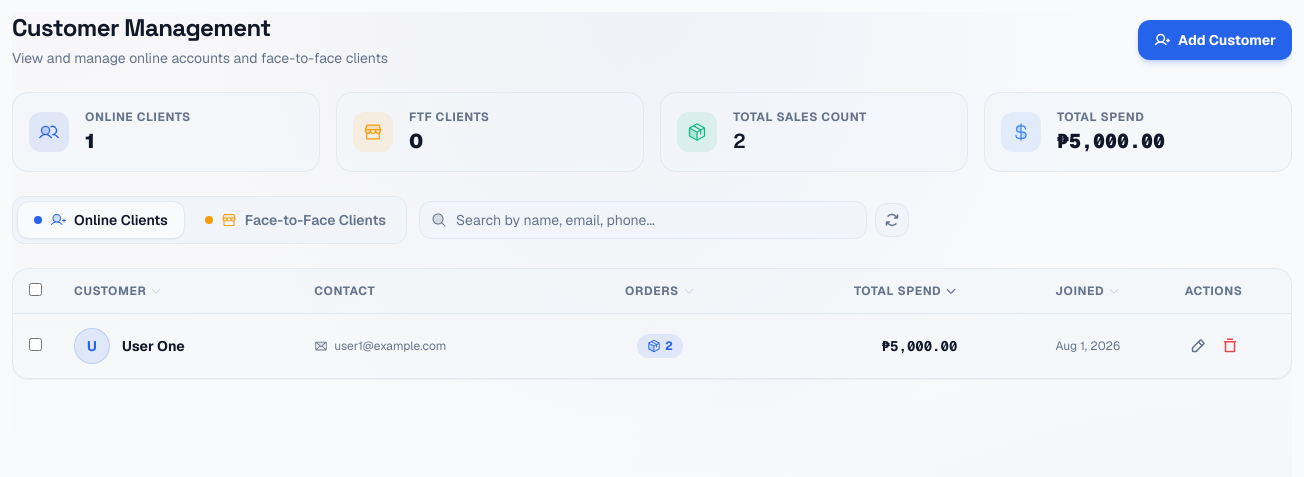
it: CustomerManagement drawer stats › renders selection bar when customer checkboxes are selected
The width and height of the screenshot is (1304, 477).
Expected: the text "User One" is shown, [122, 336, 185, 356]
Click the checkbox named "Select User One".
click(36, 344)  # box [29, 338, 42, 351]
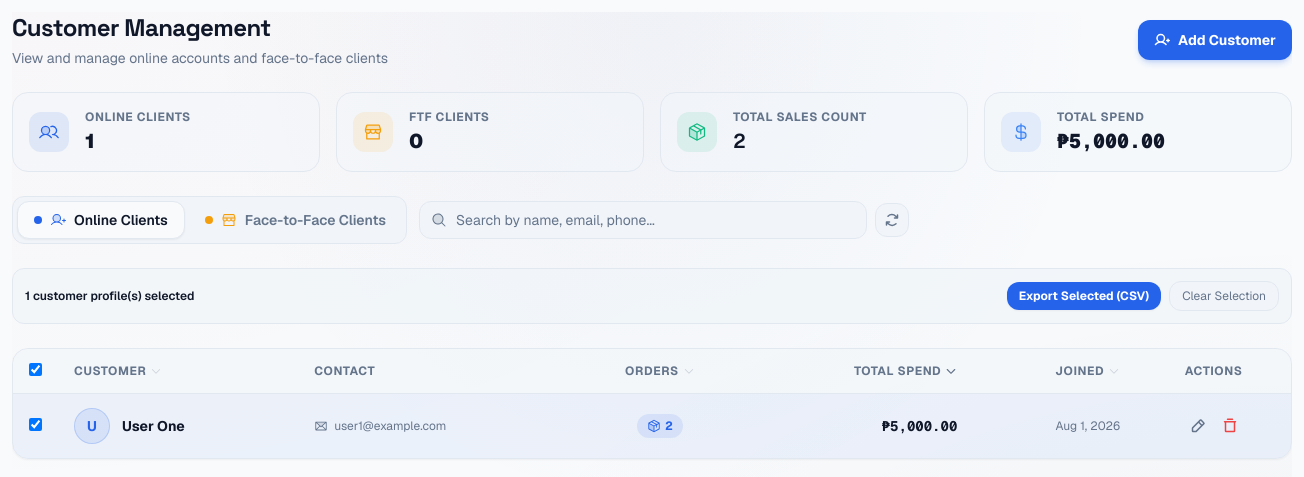
Result: the text "1 customer profile(s) selected" is shown at [25, 288, 194, 304]
Result: the button "Export Selected (CSV)" is shown at [1007, 282, 1161, 310]
